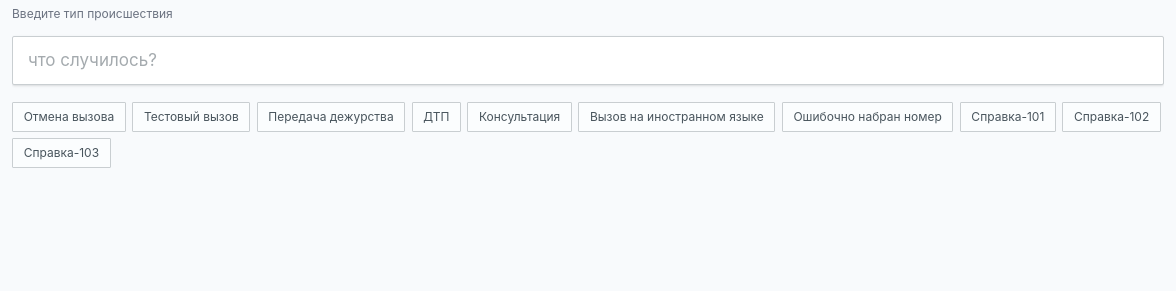
Test: IncidentClassifier Component › transitions to questionnaire on quick button click and resets back on cross click
Note: Click quick button ДТП
Click the button "ДТП" at (436, 117), box [412, 102, 461, 132]
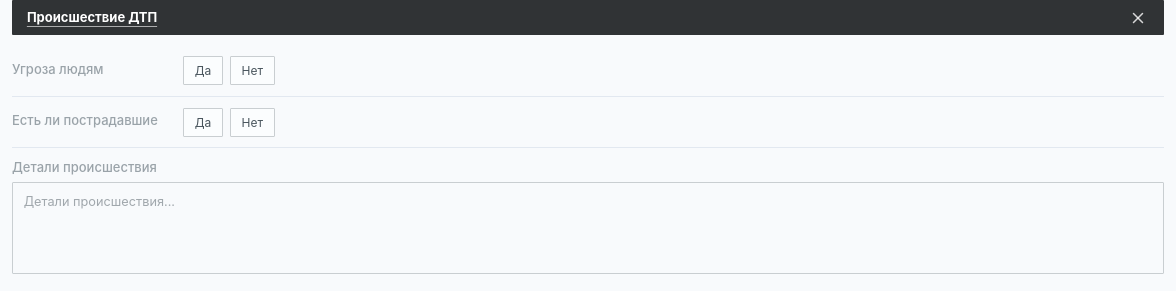
Check: the field with placeholder "что случилось" is not shown
Check: the text "Детали происшествия" is shown, box [12, 159, 157, 175]
Note: Click reset cross button
Click the button named "Сбросить тип происшествия" at (1138, 18), box [1127, 6, 1149, 29]
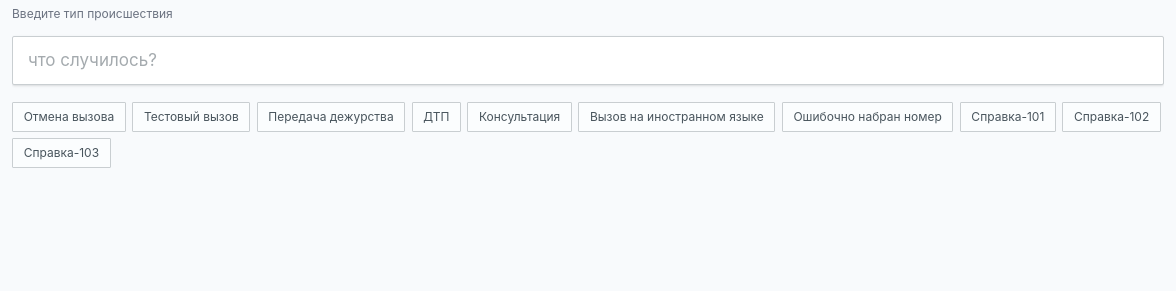
Check: the dropdown with placeholder "что случилось?" is shown, box [12, 36, 1164, 85]
